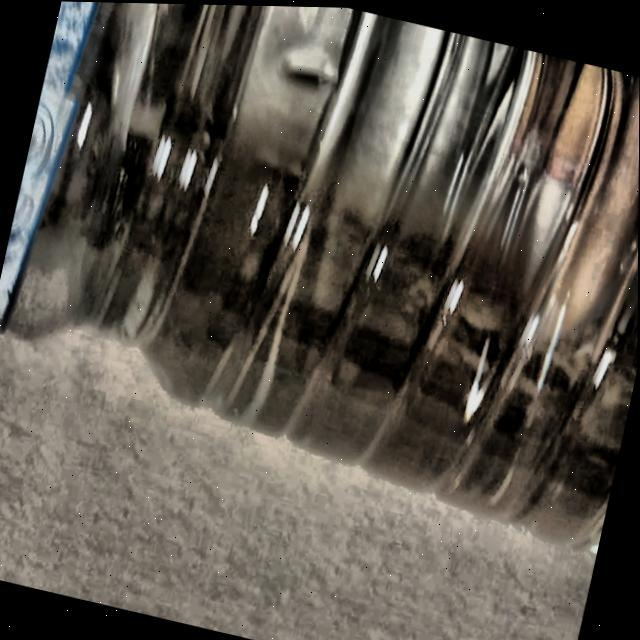plastic: (0, 1, 640, 553)
